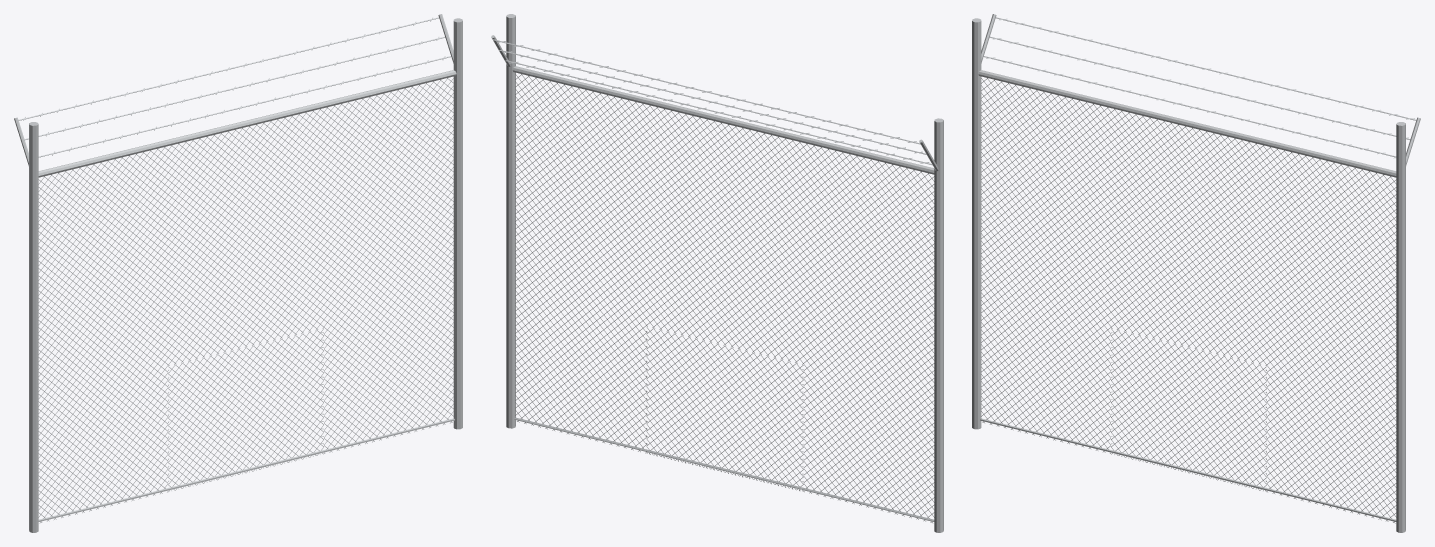
Rendered from fence_cut.glb.
The picture shows the model from 3 angles, left to right: view 1: azimuth 30°, elevation 25°; view 2: azimuth 150°, elevation 25°; view 3: azimuth 330°, elevation 25°; orthographic projection.
Parts seen in each view (by area): view 1: fence_cut, flap; view 2: fence_cut, flap; view 3: fence_cut, flap.
Boxes of the visible parts, x1=… form: fence_cut: x1=14, y1=14, x2=462, y2=532; flap: x1=168, y1=328, x2=323, y2=491; fence_cut: x1=491, y1=14, x2=943, y2=532; flap: x1=646, y1=327, x2=803, y2=491; fence_cut: x1=972, y1=14, x2=1420, y2=532; flap: x1=1111, y1=328, x2=1266, y2=491.
Bounding box in the file's own units: 3.06 × 2.75 × 0.2715.
2 materials, 1 textured.
